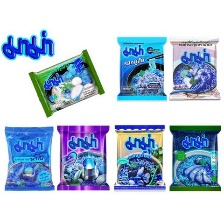snack: (24, 45, 108, 120), (52, 120, 113, 194), (109, 119, 169, 193), (164, 29, 223, 104), (165, 119, 223, 194), (114, 29, 171, 105), (0, 119, 57, 195)
